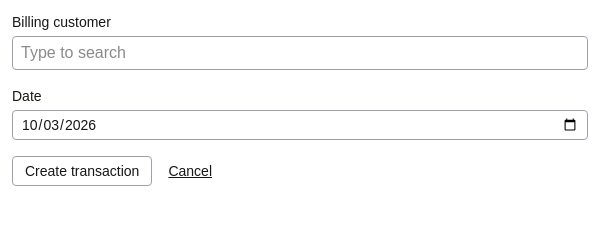
Test case: creating a transaction › with no customer chosen the field is left out and the backend's answer shows on the picker
Click the button with test id "submit".
click(82, 171)  # box x1=12 y1=156 x2=152 y2=186
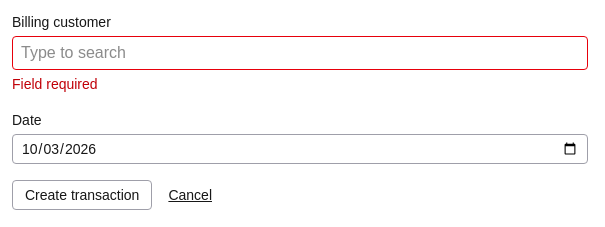
Result: the text with test id "error-billing_customer_id" reads "Field required" at x1=12 y1=76 x2=98 y2=92
